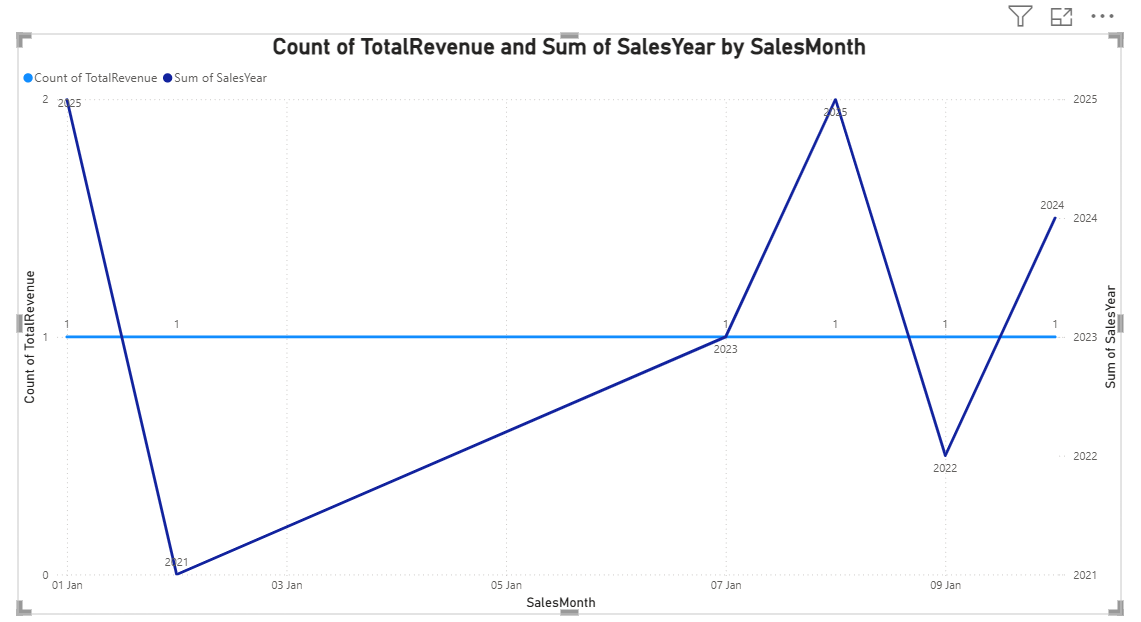

Layout of this report page (visuals, bound fields, positions):
{"tool":"powerbi","page":{"name":"Page 4","canvas":[1280,720],"ordinal":4},"visuals":[{"type":"lineChart","fields":{"Category":["Query4.SalesMonth"],"Y":["CountNonNull(Query4.TotalRevenue)"],"Y2":["Sum(Query4.SalesYear)"]},"box":[59.9,59.9,1191.8,626.6],"z":0}]}

Visuals, with their boxes on the page's 1280x720 design canvas (x1, y1, x2, y2). These are canvas units, not pixel positions in the 1141x622 screenshot, which may show the page scaled, cropped or inside an application window:
lineChart - Query4.SalesMonth x CountNonNull(Query4.TotalRevenue): [left=60, top=60, right=1252, bottom=686]
